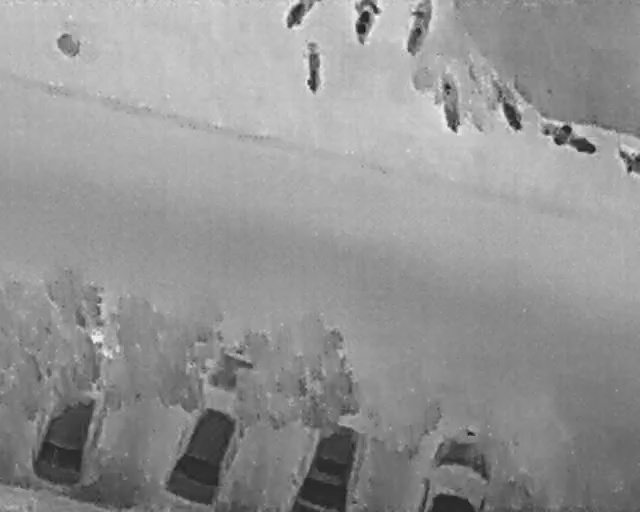Bicycle: (483, 70, 529, 136), (537, 115, 602, 159), (437, 72, 465, 138), (405, 0, 434, 57), (350, 0, 382, 46), (301, 37, 323, 97), (285, 0, 319, 29), (616, 143, 639, 174)
Car: (25, 363, 112, 494), (161, 381, 250, 509), (292, 423, 368, 510), (419, 427, 495, 510)
